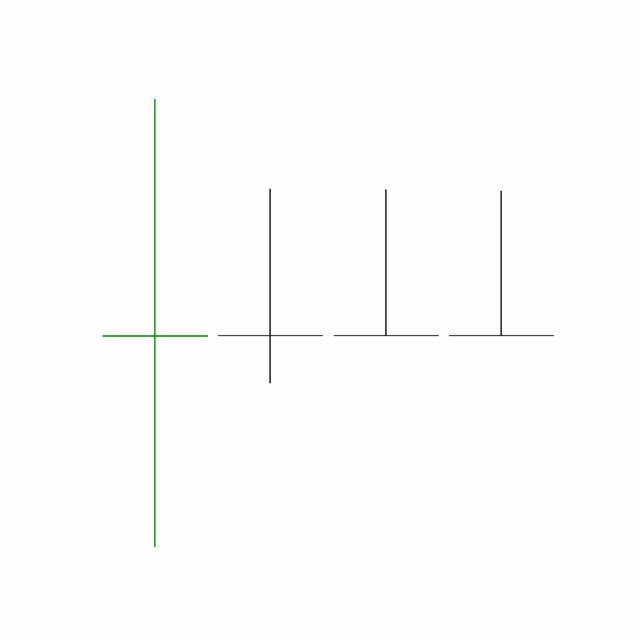Gravestone Doji: (444, 189, 560, 338)
